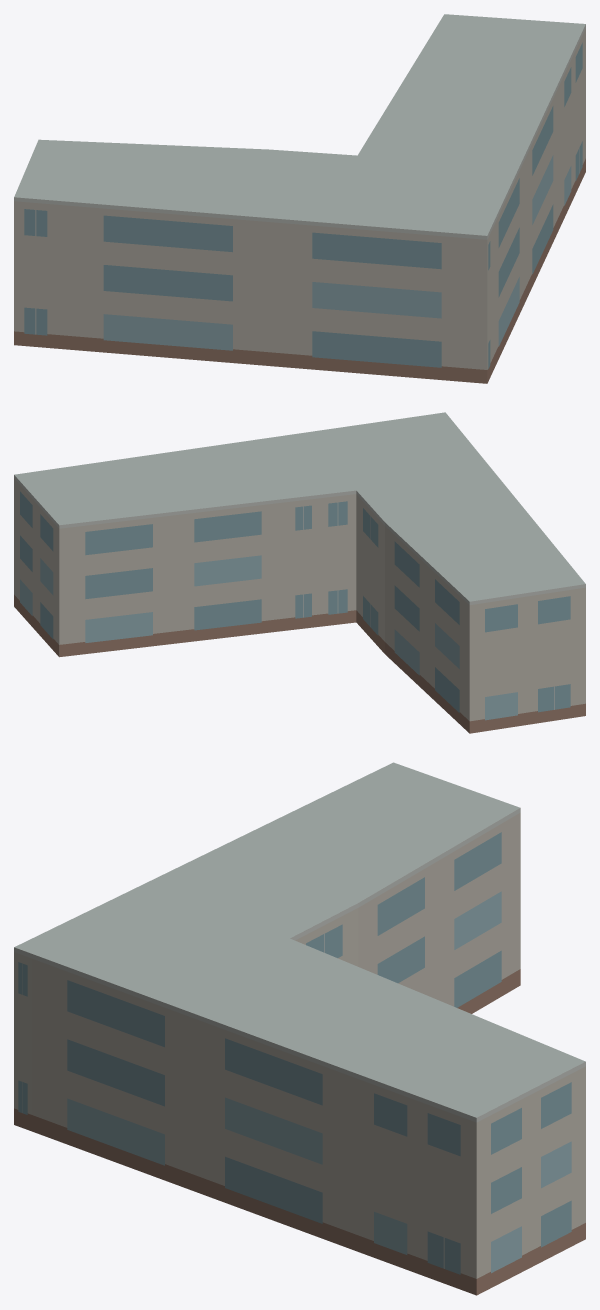
The model's file is survey-upis-32882422.glb.
3 views of the same model, one above another, from view 1: azimuth 30°, elevation 25°; view 2: azimuth 150°, elevation 25°; view 3: azimuth 270°, elevation 25° (orthographic). The views are drawn at different scales.
Parts seen in each view (by area): view 1: survey-upis-32882422.tmp; view 2: survey-upis-32882422.tmp; view 3: survey-upis-32882422.tmp.
Part boxes in pixels (x1,y1,x2,y2): survey-upis-32882422.tmp: (14, 14, 585, 383); survey-upis-32882422.tmp: (14, 412, 585, 733); survey-upis-32882422.tmp: (14, 762, 585, 1295).
Bounding box in the file's own units: 39.28 × 9.15 × 26.7.
